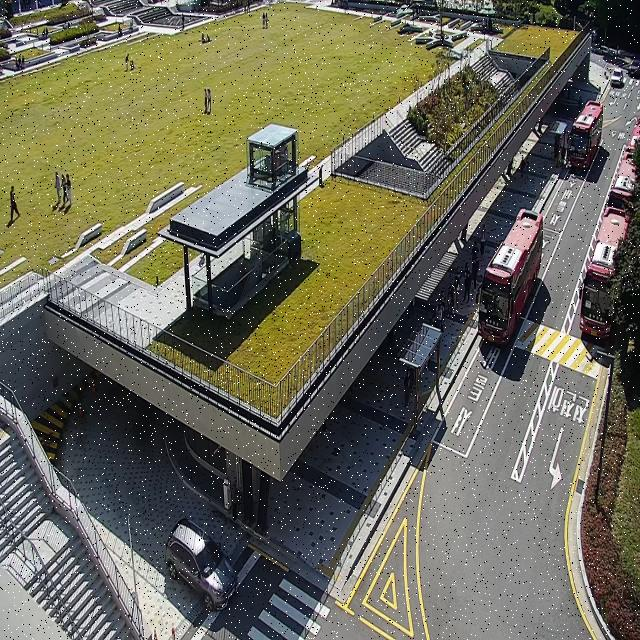queue: (406, 228, 486, 412)
